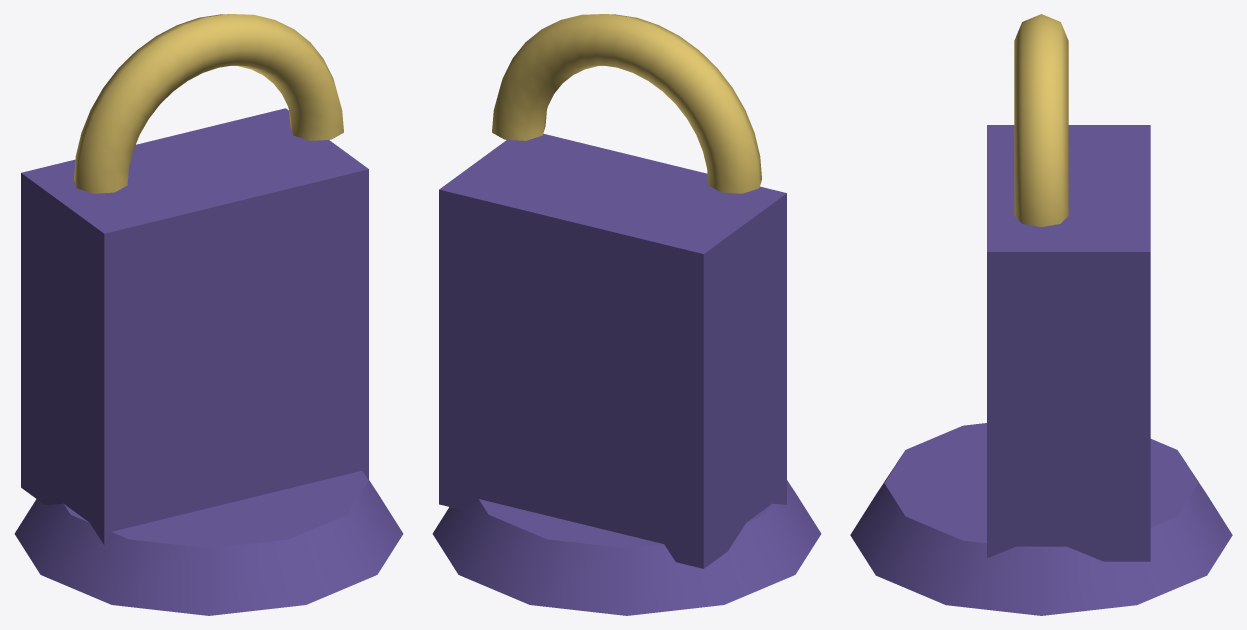
The model's file is boss_dais.glb.
The picture shows the model from 3 angles, left to right: view 1: azimuth 30°, elevation 25°; view 2: azimuth 150°, elevation 25°; view 3: azimuth 270°, elevation 25°; orthographic projection.
Visible parts, largest first — view 1: boss_throne, boss_base, boss_crown; view 2: boss_throne, boss_base, boss_crown; view 3: boss_throne, boss_base, boss_crown.
Boxes of the visible parts, box(x1,y1,x2,y2) form: boss_throne: box(21, 108, 368, 545); boss_base: box(14, 470, 403, 615); boss_crown: box(74, 14, 343, 193); boss_throne: box(439, 133, 786, 568); boss_base: box(432, 480, 821, 615); boss_crown: box(492, 14, 761, 193); boss_throne: box(987, 125, 1150, 561); boss_base: box(850, 423, 1232, 615); boss_crown: box(1014, 14, 1068, 226).
Size of what is drawn, in the model's own units: 2.8 by 4.1 by 2.8.
